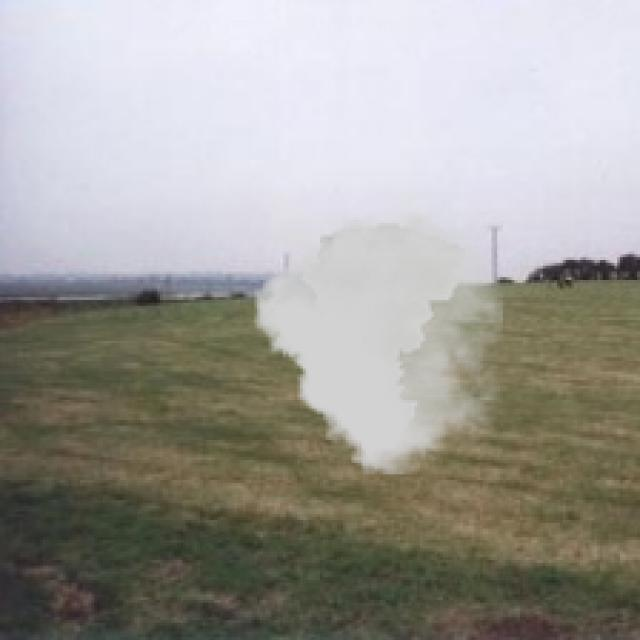smoke: (254, 212, 503, 474)
